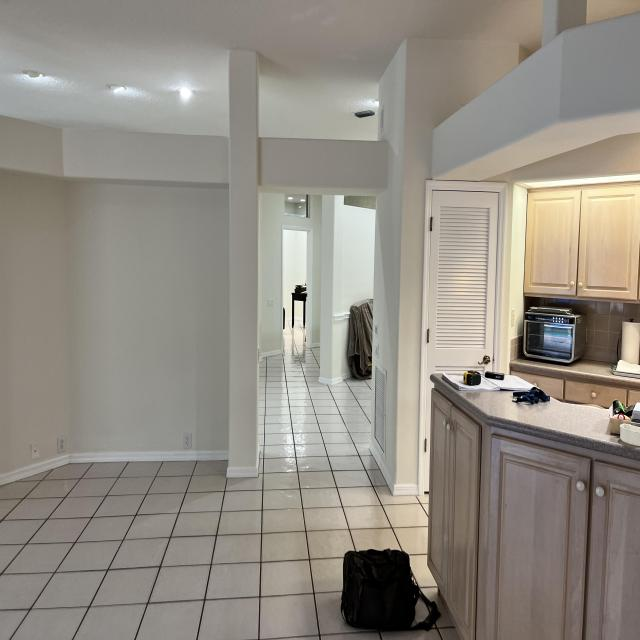Cabinet_Flat: (512, 370, 640, 411)
Cabinet_Raised_Panel: (427, 391, 640, 640), (524, 182, 640, 300)
Countertop_Granite: (459, 389, 640, 458), (513, 360, 640, 391)
